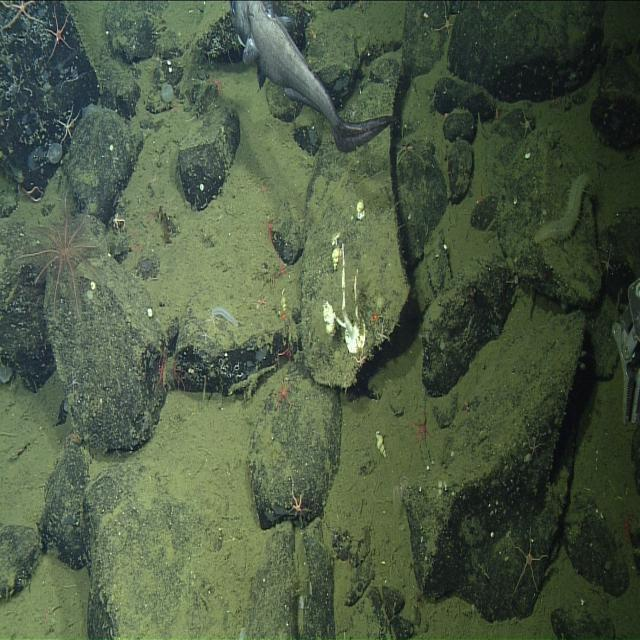Brittle Star: (509, 521, 550, 598), (39, 4, 76, 64), (406, 402, 441, 458), (284, 474, 313, 529), (1, 0, 40, 36), (52, 103, 82, 148), (597, 243, 619, 280), (275, 338, 296, 366), (112, 210, 125, 236)
Not Brittle Star: (234, 1, 398, 160), (17, 188, 105, 328), (530, 164, 595, 253), (209, 302, 240, 332), (354, 332, 370, 371), (0, 354, 13, 389), (374, 428, 388, 457), (159, 80, 175, 105), (160, 81, 175, 106), (355, 199, 367, 221)
